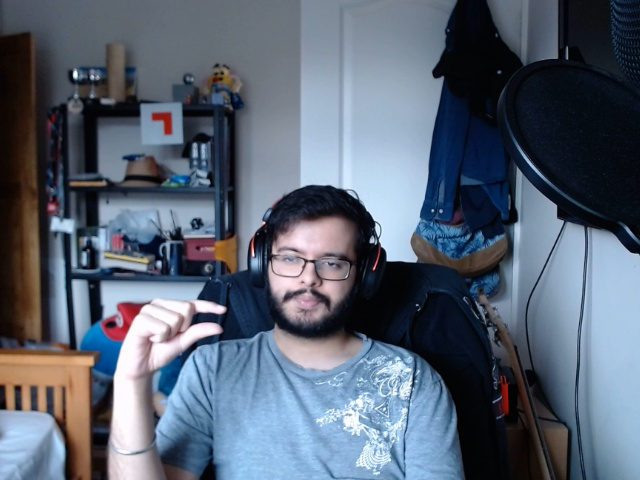Small: (101, 289, 243, 391)
